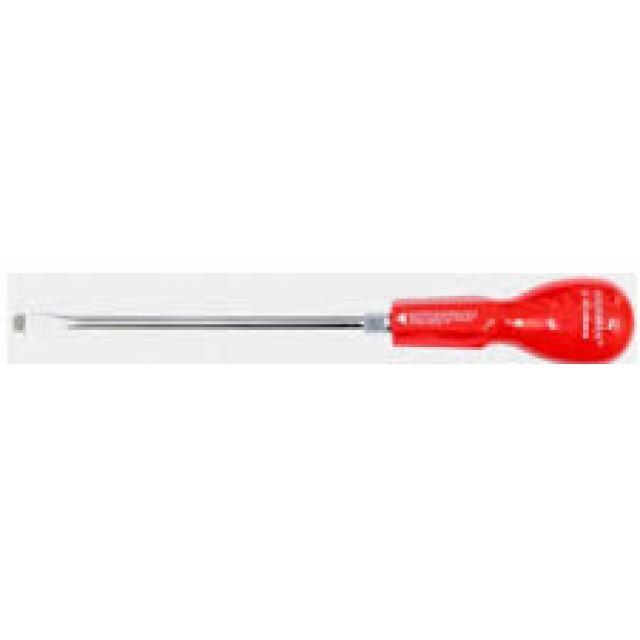screwdriver: (8, 274, 634, 366)
